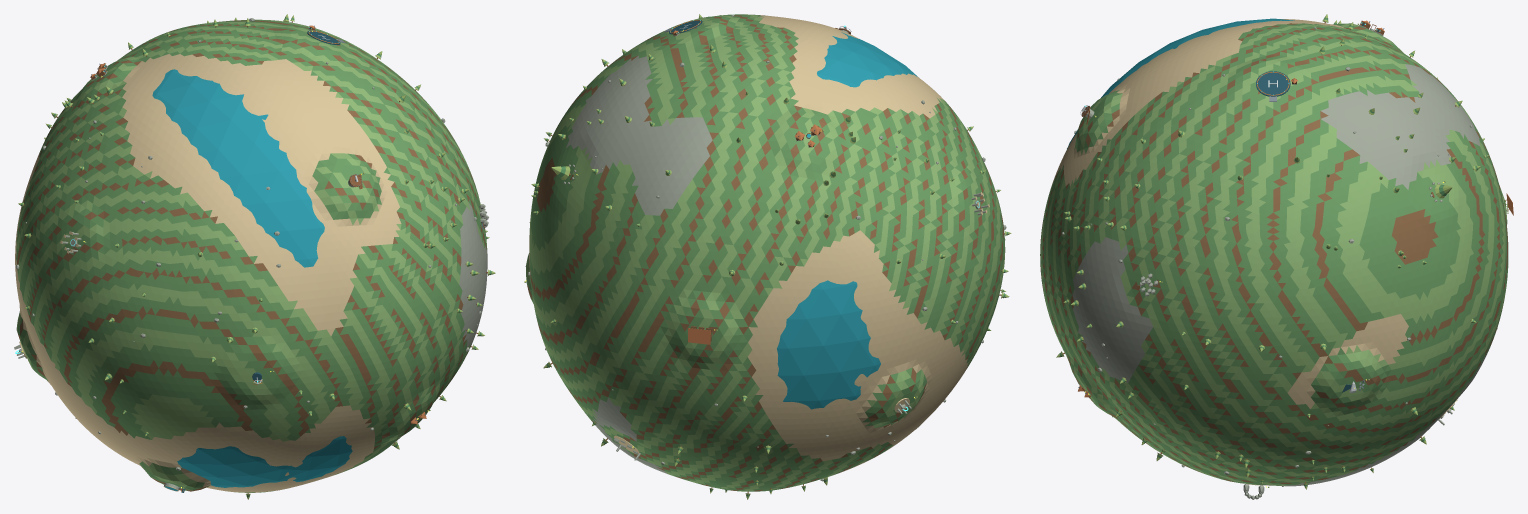
File: ametz_surface.glb
3 views of the same model, side by side, from view 1: azimuth 30°, elevation 25°; view 2: azimuth 150°, elevation 25°; view 3: azimuth 270°, elevation 25° (orthographic).
Parts seen in each view (by area): view 1: terrain_chunk_1, terrain_chunk_5, terrain_chunk_0, water_visual, terrain_chunk_3, terrain_chunk_4, terrain_chunk_2, terrain_chunk_7; view 2: terrain_chunk_3, terrain_chunk_7, terrain_chunk_2, terrain_chunk_1, water_visual, terrain_chunk_6, terrain_chunk_0, terrain_chunk_5; view 3: terrain_chunk_7, terrain_chunk_5, terrain_chunk_6, terrain_chunk_4, terrain_chunk_3, terrain_chunk_1, water_visual, poi_landing_mesh.
Boxes of the visible parts, bbox=[...] form: terrain_chunk_1: bbox=[39, 47, 363, 361]; terrain_chunk_5: bbox=[247, 36, 487, 345]; terrain_chunk_0: bbox=[40, 310, 366, 492]; water_visual: bbox=[152, 69, 352, 487]; terrain_chunk_3: bbox=[15, 25, 246, 308]; terrain_chunk_4: bbox=[297, 267, 487, 486]; terrain_chunk_2: bbox=[15, 269, 102, 442]; terrain_chunk_7: bbox=[189, 19, 379, 60]; terrain_chunk_3: bbox=[643, 36, 969, 350]; terrain_chunk_7: bbox=[529, 25, 763, 337]; terrain_chunk_2: bbox=[641, 301, 969, 491]; terrain_chunk_1: bbox=[764, 21, 1005, 300]; water_visual: bbox=[777, 32, 917, 409]; terrain_chunk_6: bbox=[525, 253, 699, 483]; terrain_chunk_0: bbox=[913, 257, 1004, 431]; terrain_chunk_5: bbox=[635, 14, 812, 46]; terrain_chunk_7: bbox=[1268, 36, 1508, 345]; terrain_chunk_5: bbox=[1040, 36, 1273, 346]; terrain_chunk_6: bbox=[1268, 257, 1508, 486]; terrain_chunk_4: bbox=[1040, 255, 1277, 485]; terrain_chunk_3: bbox=[1269, 19, 1507, 224]; terrain_chunk_1: bbox=[1046, 21, 1276, 205]; water_visual: bbox=[1067, 18, 1294, 148]; poi_landing_mesh: bbox=[1256, 71, 1297, 101].
Size of the model in its own units: 249 by 248 by 246.
